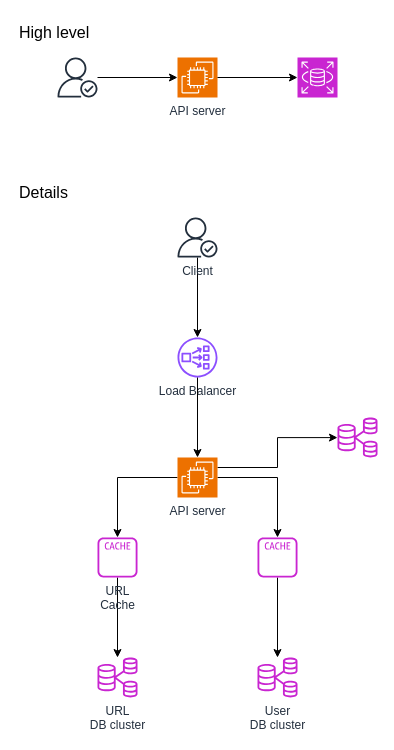
Some shapes in this 394 by 750 pixel diagram are drawn without their labels. The box of each missing label's shape, as (x1, y1, x2, y2) in pixels:
Database: (296, 56, 338, 98)
KGS: (337, 417, 377, 457)
User Cache: (257, 537, 297, 577)
